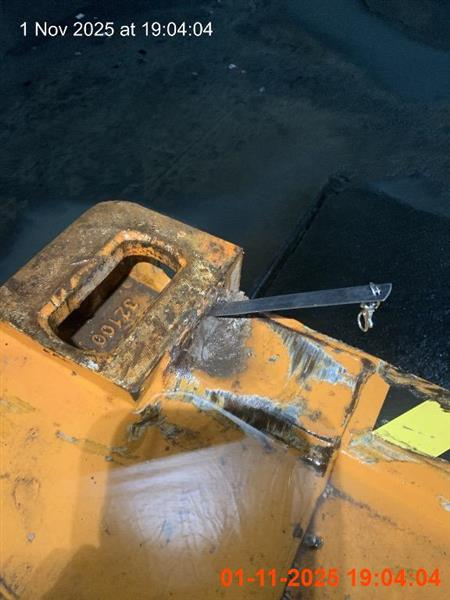hole: (207, 282, 391, 332)
